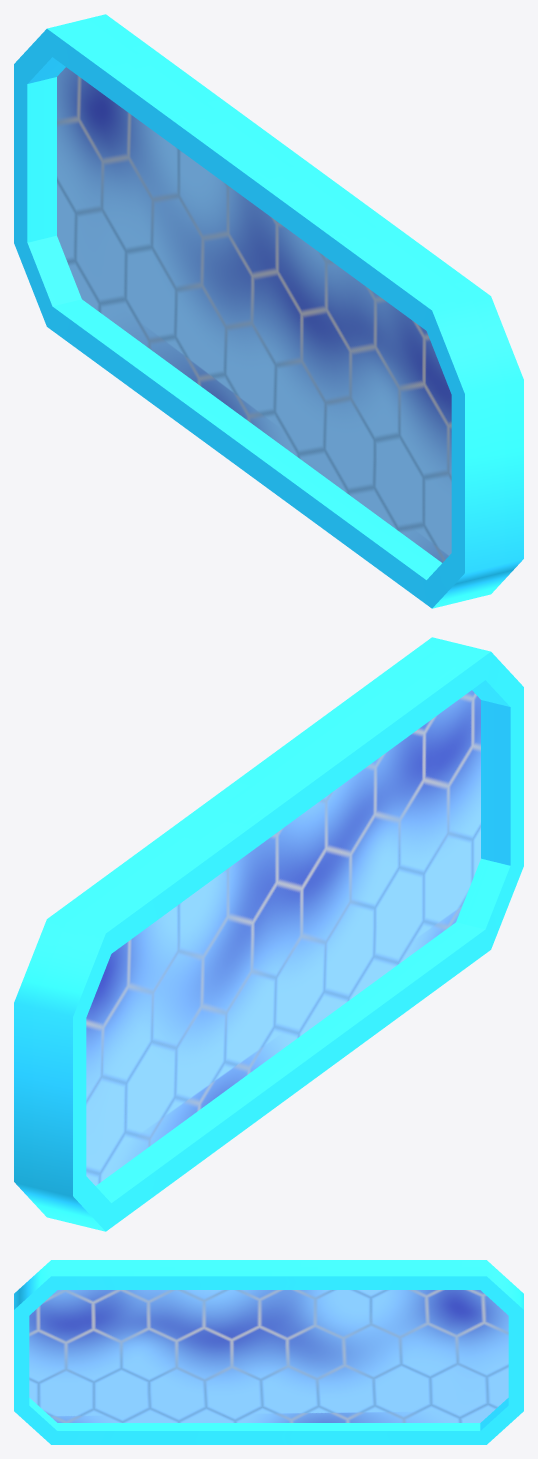
File: s0_Floor04_B_Art_01.gltf
3 renders of one model, top to bottom at view 1: azimuth 30°, elevation 25°; view 2: azimuth 150°, elevation 25°; view 3: azimuth 270°, elevation 25°, orthographic. The views are drawn at different scales.
Parts seen in each view (by area): view 1: node_Floor04_B_Art; view 2: node_Floor04_B_Art; view 3: node_Floor04_B_Art.
Boxes of the visible parts, x1,y1,x2,y2 form: node_Floor04_B_Art: (14, 14, 523, 608); node_Floor04_B_Art: (14, 637, 523, 1231); node_Floor04_B_Art: (14, 1260, 523, 1444).
Size of the model in its own units: 0.1593 by 0.7699 by 2.11.
